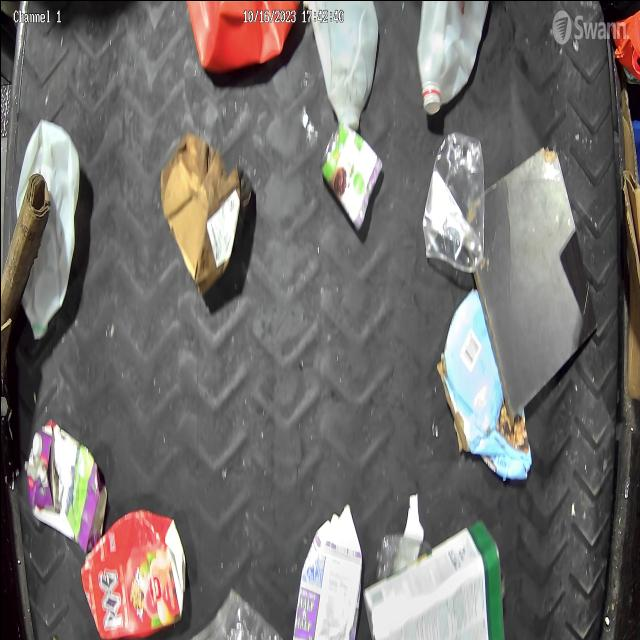can: (322, 124, 380, 235)
milk_jug: (15, 114, 84, 352), (306, 0, 378, 134), (415, 0, 487, 120)
non_white_jug: (186, 0, 296, 72)
